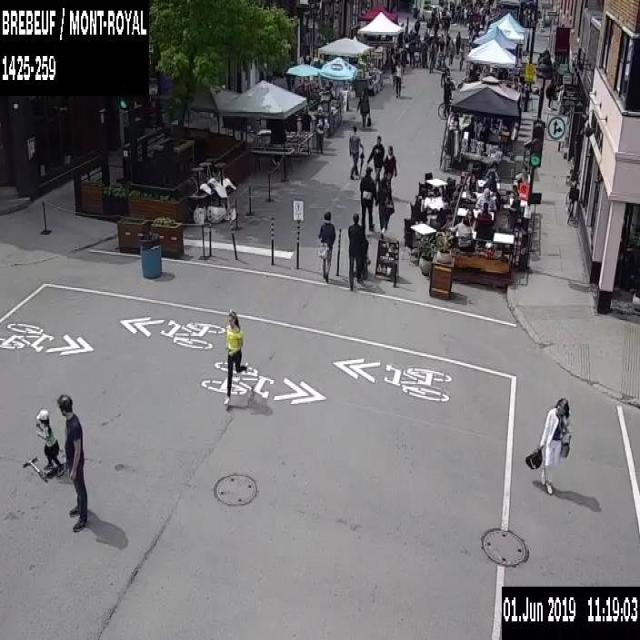cyclist: (437, 73, 453, 118)
pedestrian: (525, 396, 570, 495), (56, 393, 88, 531), (221, 310, 248, 406), (35, 407, 61, 469), (346, 217, 366, 290), (318, 211, 336, 280), (374, 177, 395, 236), (359, 165, 376, 232), (347, 125, 363, 177), (367, 133, 383, 184), (381, 144, 396, 196), (314, 105, 326, 153), (357, 87, 371, 128), (393, 62, 402, 100), (544, 80, 554, 107), (429, 39, 436, 73), (420, 41, 428, 67), (454, 31, 462, 56), (448, 39, 454, 64), (432, 16, 439, 35), (425, 16, 432, 34), (443, 15, 449, 34), (480, 8, 485, 29)
vehicle: (419, 3, 451, 20)
